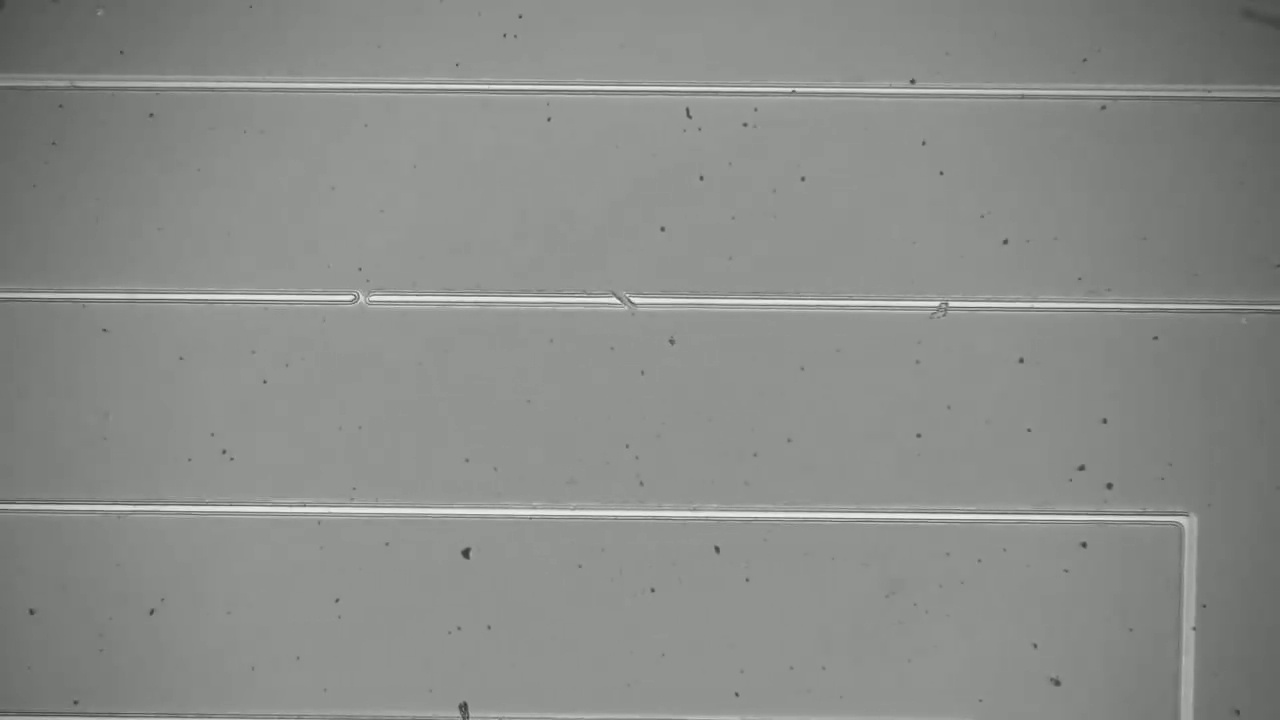open: (605, 281, 646, 322), (343, 277, 387, 314)
stains_enbedded: (913, 283, 966, 328)
